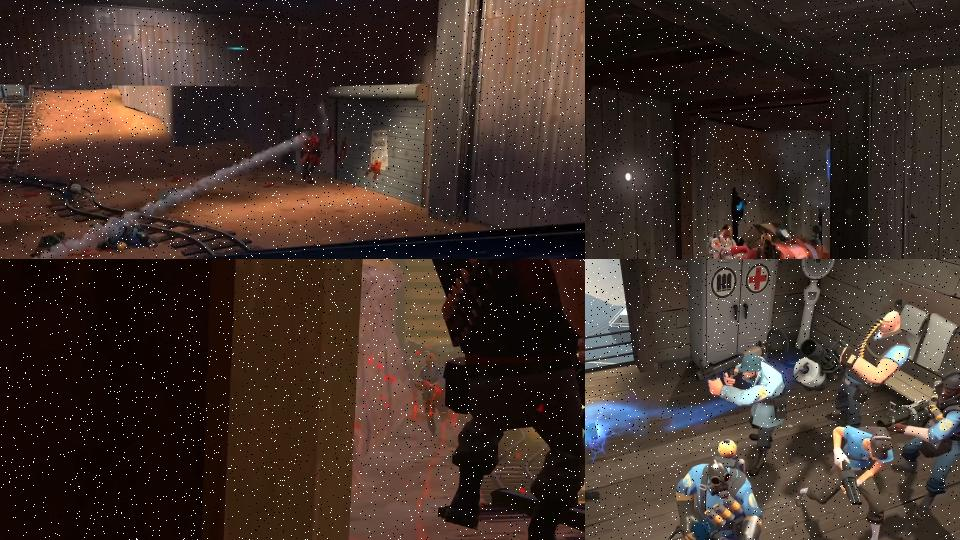Enemy: (431, 259, 585, 540), (663, 434, 861, 540), (693, 325, 794, 478), (792, 309, 912, 428), (876, 371, 960, 521), (793, 424, 896, 540), (416, 354, 447, 438), (737, 232, 829, 259), (94, 218, 158, 252), (701, 224, 749, 259), (296, 125, 321, 184)
